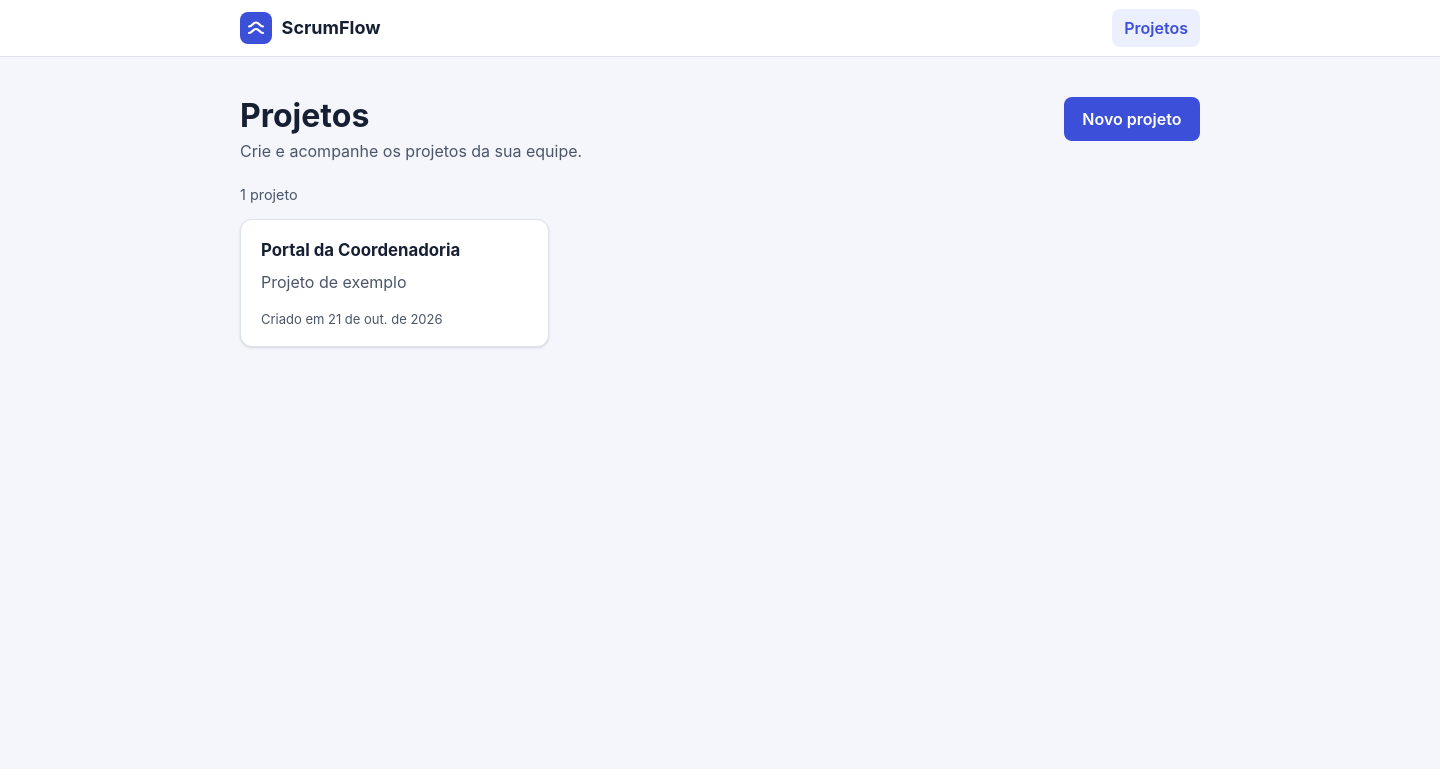
Listagem de projetos (AC01) › clicar em um projeto abre os detalhes
The image size is (1440, 769).
Click the link "Portal da Coordenadoria".
click(395, 283)  # box [240,218,549,347]
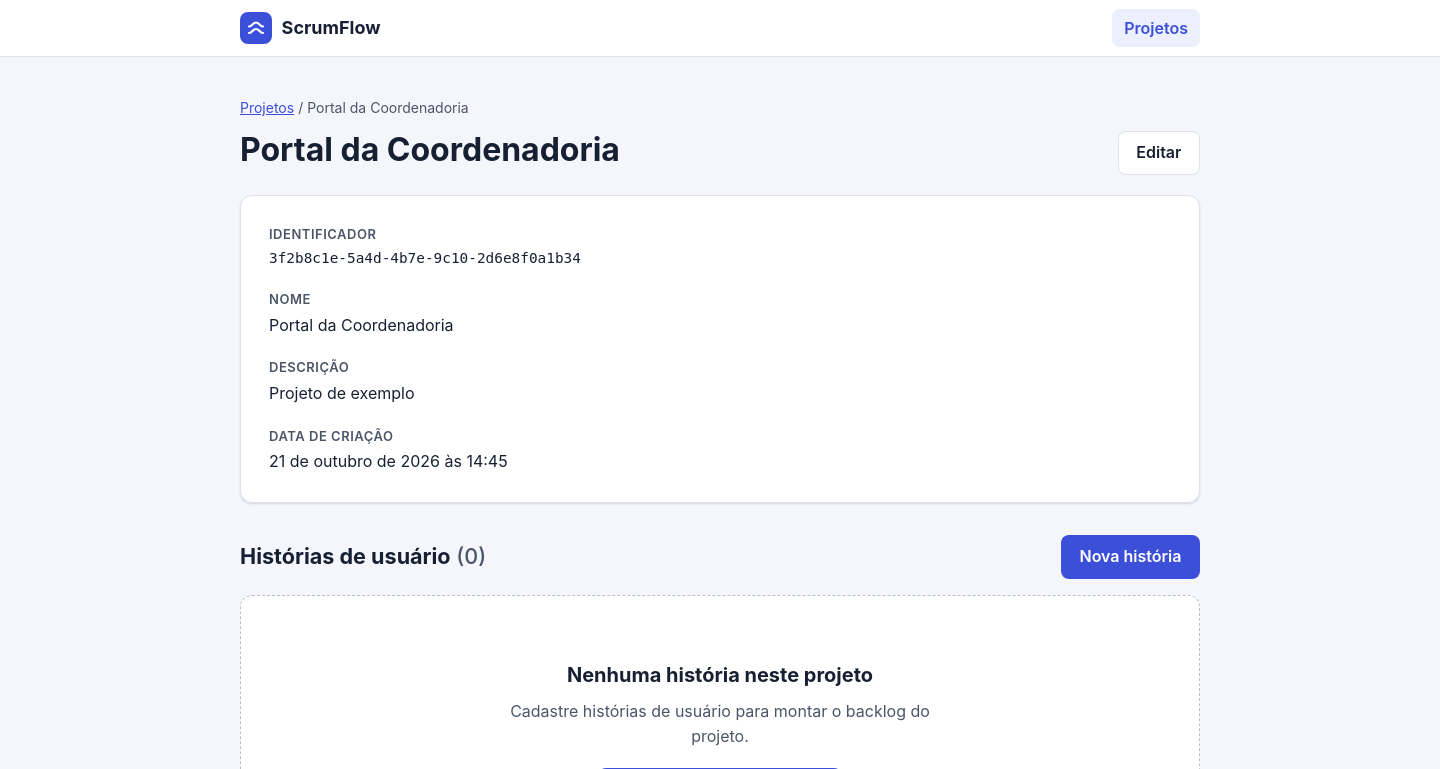
Now the heading "Portal da Coordenadoria" is shown, box [240,130,620,169]
